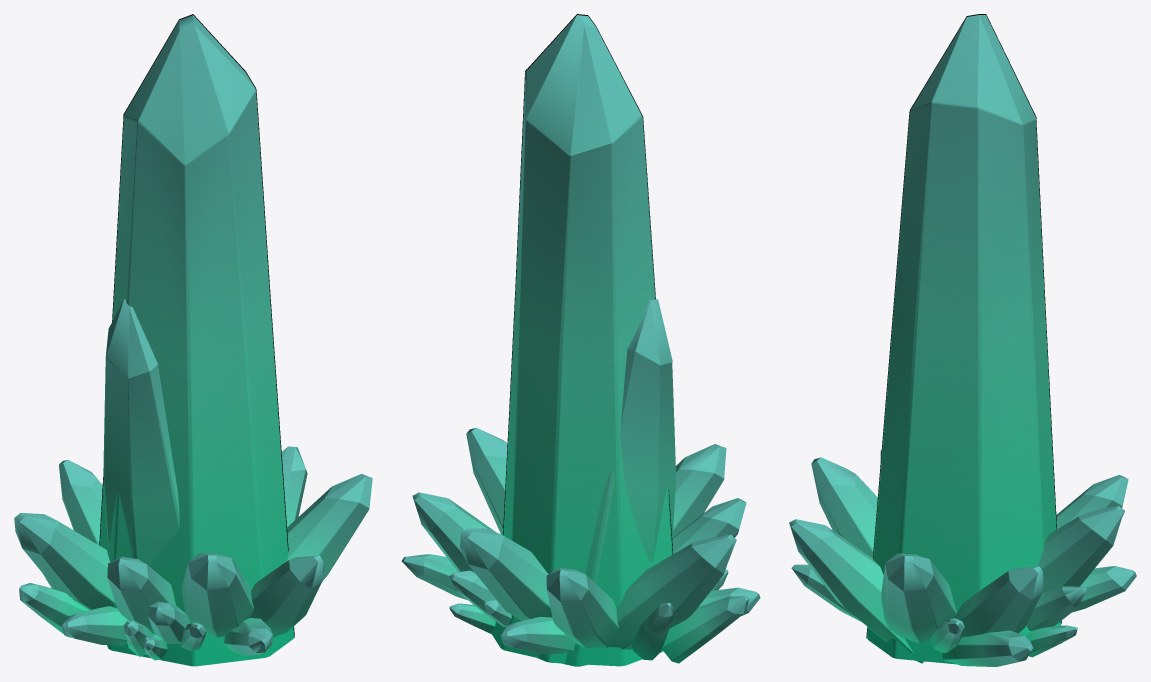
Rendered from Crystal_ClusterSurrounded.optimized.glb.
The picture shows the model from 3 angles, left to right: view 1: azimuth 30°, elevation 25°; view 2: azimuth 150°, elevation 25°; view 3: azimuth 270°, elevation 25°; orthographic projection.
Visible parts, largest first — view 1: Crystal_ClusterSurrounded; view 2: Crystal_ClusterSurrounded; view 3: Crystal_ClusterSurrounded.
Part boxes in pixels (x1,y1,x2,y2): Crystal_ClusterSurrounded: (14, 14, 372, 666); Crystal_ClusterSurrounded: (401, 14, 760, 666); Crystal_ClusterSurrounded: (789, 14, 1136, 666).
Size of the model in its own units: 8.05 by 14.74 by 7.51.
Materials: 2 (1 with a texture image).
